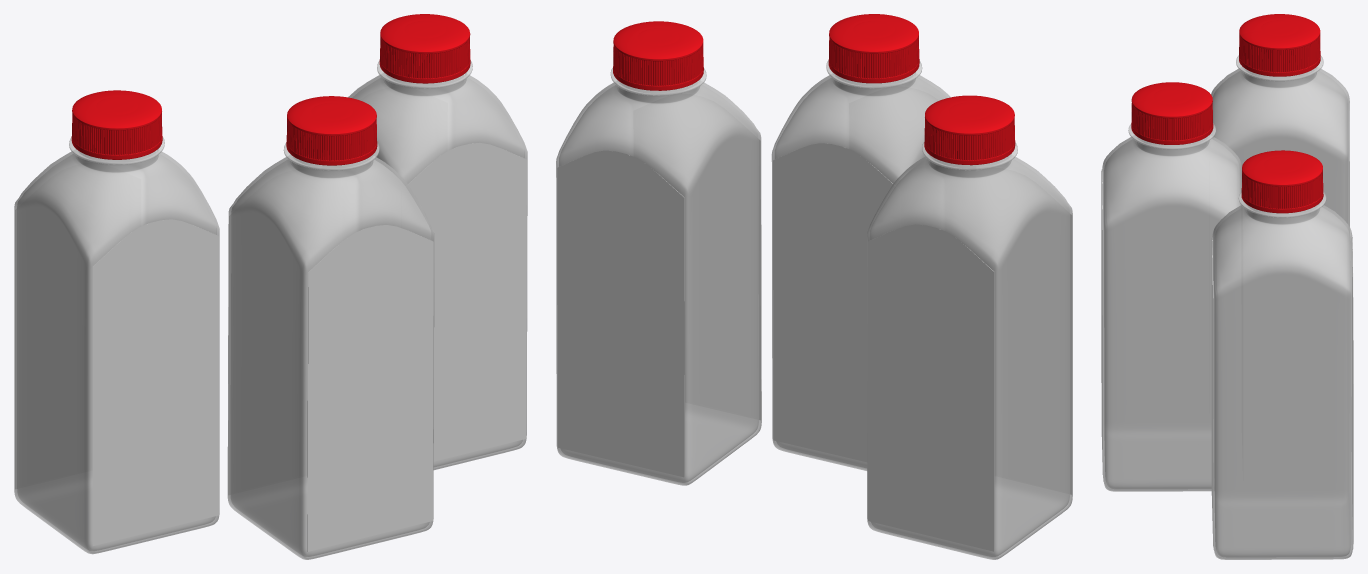
File: Soft Drinks A-4.glb
3 renders of one model, left to right at view 1: azimuth 30°, elevation 25°; view 2: azimuth 150°, elevation 25°; view 3: azimuth 270°, elevation 25°, orthographic. The views are drawn at different scales.
Visible parts, largest first — view 1: Bottle_BottlePlastic_0.003, Plane, Bottle_BottlePlastic_0.001, Plane.004, Plane.002, Bottle_BottlePlastic_0.002, ManiPiece_Bottle2CapArnold_0, ManiPiece_Bottle2CapArnold_0.001, ManiPiece_Bottle2CapArnold_0.002, pCube117_Bottle2CapArnold_0, pCube117_Bottle2CapArnold_0.002, pCube117_Bottle2CapArnold_0.001; view 2: Plane.002, Plane, Bottle_BottlePlastic_0.001, Bottle_BottlePlastic_0.002, Plane.004, Bottle_BottlePlastic_0.003, ManiPiece_Bottle2CapArnold_0, ManiPiece_Bottle2CapArnold_0.001, ManiPiece_Bottle2CapArnold_0.002, pCube117_Bottle2CapArnold_0.001, pCube117_Bottle2CapArnold_0, pCube117_Bottle2CapArnold_0.002; view 3: Bottle_BottlePlastic_0.002, Bottle_BottlePlastic_0.003, Bottle_BottlePlastic_0.001, ManiPiece_Bottle2CapArnold_0.001, ManiPiece_Bottle2CapArnold_0.002, ManiPiece_Bottle2CapArnold_0, pCube117_Bottle2CapArnold_0.002, pCube117_Bottle2CapArnold_0, pCube117_Bottle2CapArnold_0.001, Plane.002, Plane.004.
Part boxes in pixels (x1=…): Bottle_BottlePlastic_0.003: x1=227, y1=142, x2=434, y2=559; Plane: x1=15, y1=209, x2=218, y2=545; Bottle_BottlePlastic_0.001: x1=14, y1=137, x2=219, y2=554; Plane.004: x1=229, y1=215, x2=433, y2=551; Plane.002: x1=406, y1=142, x2=526, y2=461; Bottle_BottlePlastic_0.002: x1=348, y1=60, x2=527, y2=470; ManiPiece_Bottle2CapArnold_0: x1=71, y1=90, x2=162, y2=159; ManiPiece_Bottle2CapArnold_0.001: x1=379, y1=14, x2=470, y2=83; ManiPiece_Bottle2CapArnold_0.002: x1=286, y1=96, x2=377, y2=165; pCube117_Bottle2CapArnold_0: x1=72, y1=113, x2=162, y2=155; pCube117_Bottle2CapArnold_0.002: x1=286, y1=118, x2=376, y2=160; pCube117_Bottle2CapArnold_0.001: x1=380, y1=37, x2=470, y2=78; Plane.002: x1=557, y1=140, x2=760, y2=477; Plane: x1=868, y1=214, x2=1071, y2=551; Bottle_BottlePlastic_0.001: x1=867, y1=141, x2=1072, y2=559; Bottle_BottlePlastic_0.002: x1=556, y1=68, x2=761, y2=485; Plane.004: x1=773, y1=143, x2=894, y2=462; Bottle_BottlePlastic_0.003: x1=771, y1=60, x2=950, y2=470; ManiPiece_Bottle2CapArnold_0: x1=924, y1=95, x2=1015, y2=165; ManiPiece_Bottle2CapArnold_0.001: x1=613, y1=21, x2=703, y2=90; ManiPiece_Bottle2CapArnold_0.002: x1=828, y1=14, x2=919, y2=83; pCube117_Bottle2CapArnold_0.001: x1=613, y1=44, x2=703, y2=85; pCube117_Bottle2CapArnold_0: x1=924, y1=119, x2=1014, y2=160; pCube117_Bottle2CapArnold_0.002: x1=829, y1=37, x2=919, y2=78; Bottle_BottlePlastic_0.002: x1=1212, y1=191, x2=1353, y2=559; Bottle_BottlePlastic_0.003: x1=1102, y1=123, x2=1241, y2=491; Bottle_BottlePlastic_0.001: x1=1210, y1=55, x2=1349, y2=229; ManiPiece_Bottle2CapArnold_0.001: x1=1241, y1=150, x2=1323, y2=213; ManiPiece_Bottle2CapArnold_0.002: x1=1131, y1=82, x2=1213, y2=144; ManiPiece_Bottle2CapArnold_0: x1=1239, y1=14, x2=1320, y2=76; pCube117_Bottle2CapArnold_0.002: x1=1131, y1=103, x2=1212, y2=140; pCube117_Bottle2CapArnold_0: x1=1239, y1=34, x2=1320, y2=72; pCube117_Bottle2CapArnold_0.001: x1=1241, y1=171, x2=1323, y2=208; Plane.002: x1=1211, y1=237, x2=1353, y2=549; Plane.004: x1=1101, y1=169, x2=1241, y2=481.
Size of the model in its own units: 5.85 by 5.17 by 3.19.
